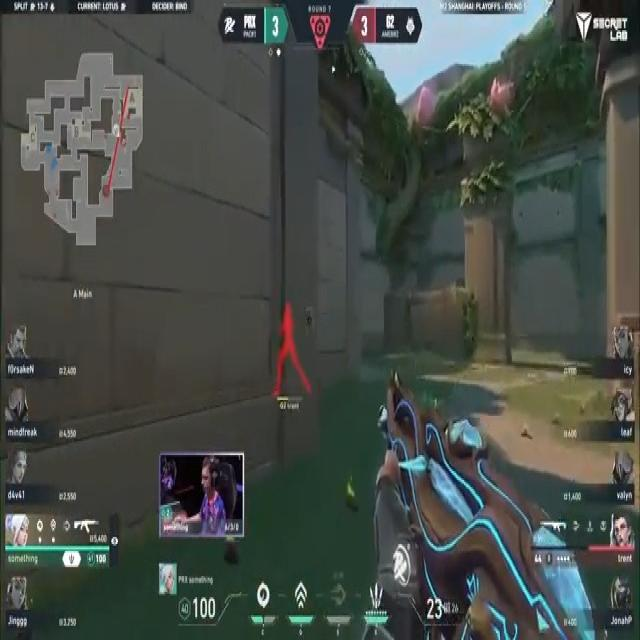enemy behind wall: (272, 298, 312, 412)
